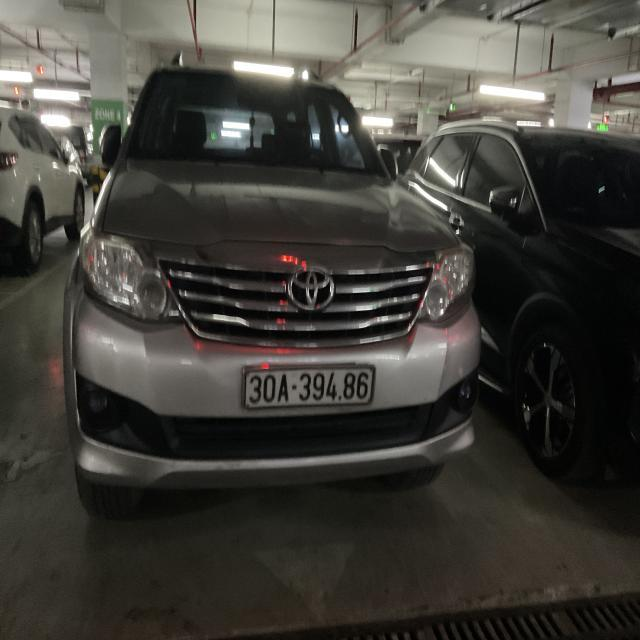license: (241, 364, 375, 409)
